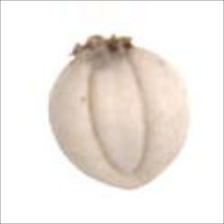L5: (85, 57, 152, 176), (64, 33, 137, 64), (95, 171, 163, 190)
L6: (47, 34, 192, 193)
